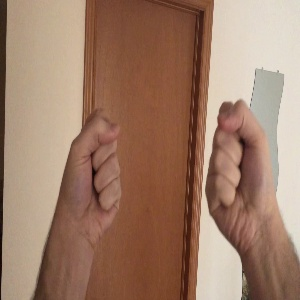hand: (205, 100, 278, 235), (59, 112, 119, 238)
